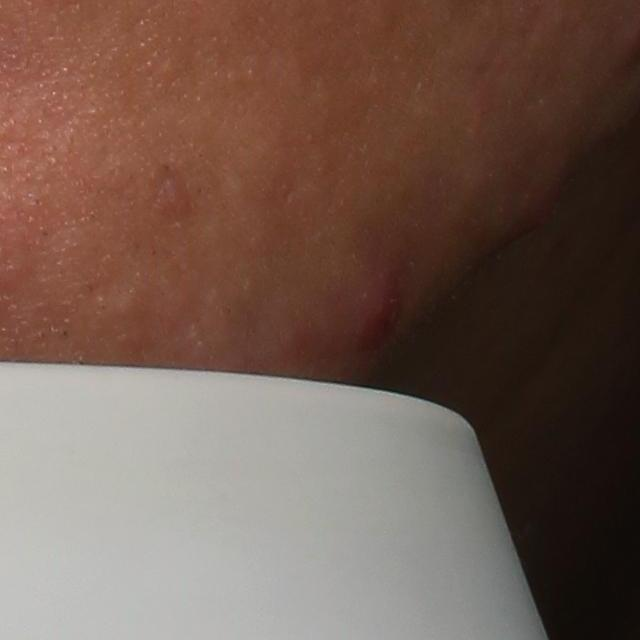papule: (352, 271, 404, 347), (499, 187, 564, 245), (155, 176, 199, 221)
